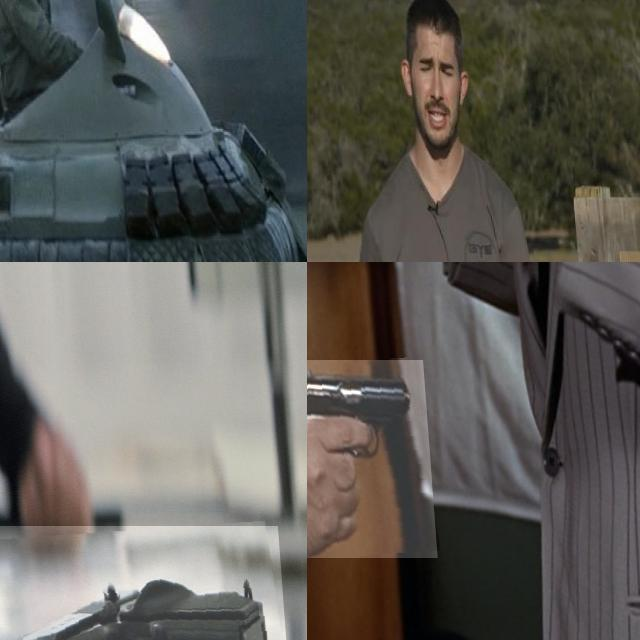gun-knife-thesis - v11 Yolov5 augmented: (0, 526, 285, 640), (307, 359, 430, 558), (0, 0, 46, 51)
